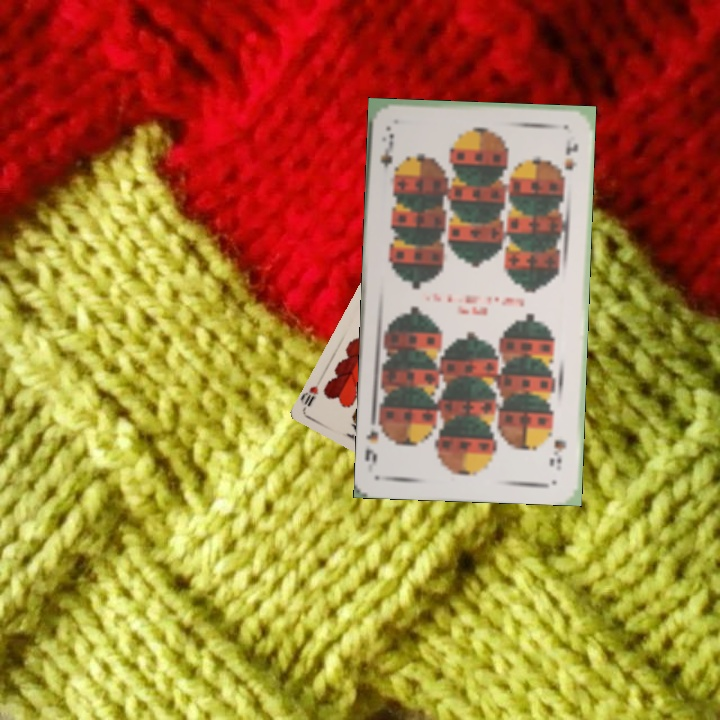S9: (376, 129, 397, 170), (547, 436, 568, 469)
